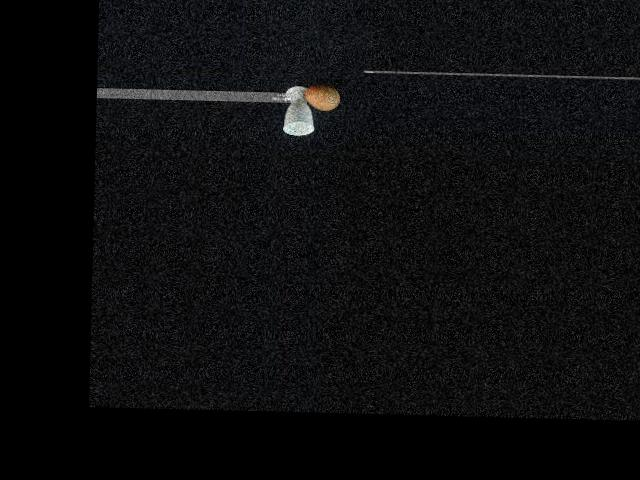egg: (304, 85, 339, 110)
